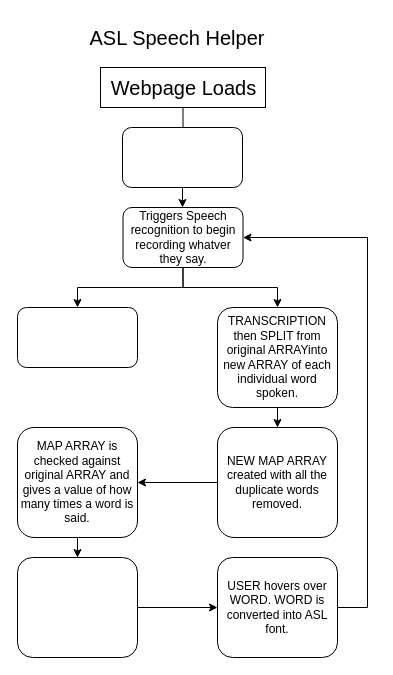
Some shapes in this 393 by 675 pixel diagram are drawn without their labels. The shapes that lost their labels are listed below. From the top down, each one's centre as x and y in pixels, then its label:
point 182,157: USER begins talking into microphone.
point 77,337: TRANSCRIPTION output to HTML page.
point 77,607: OUTPUT to HTML page and
